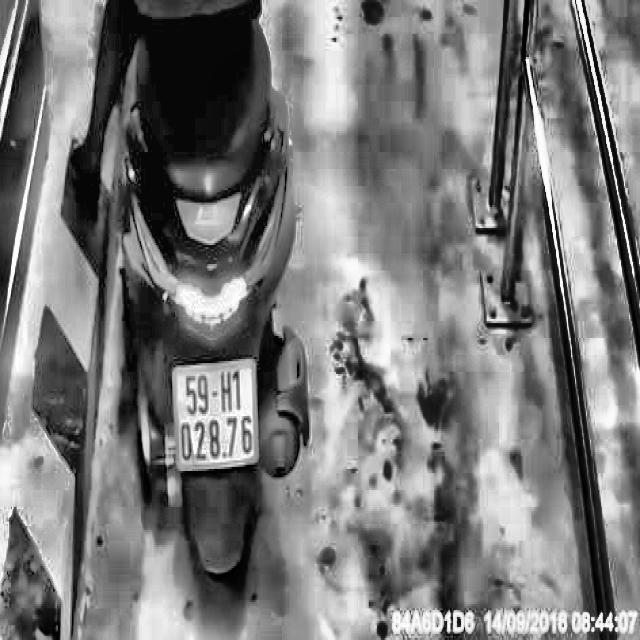plate: (168, 354, 263, 476)
